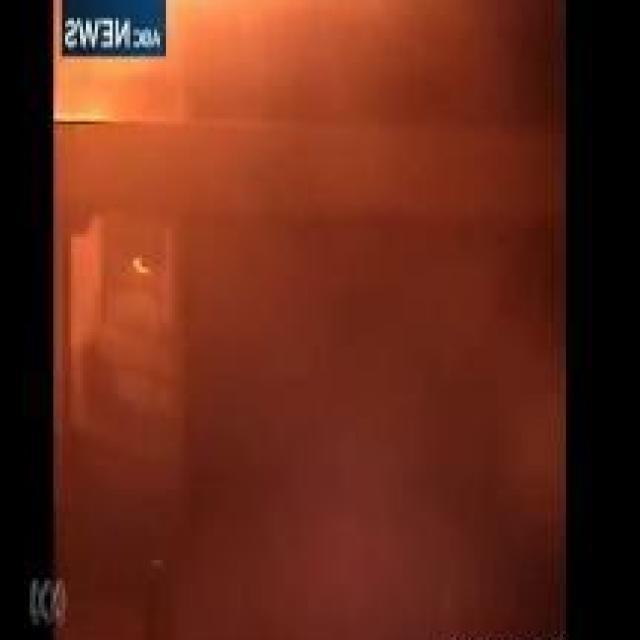fire: (190, 225, 546, 640)
